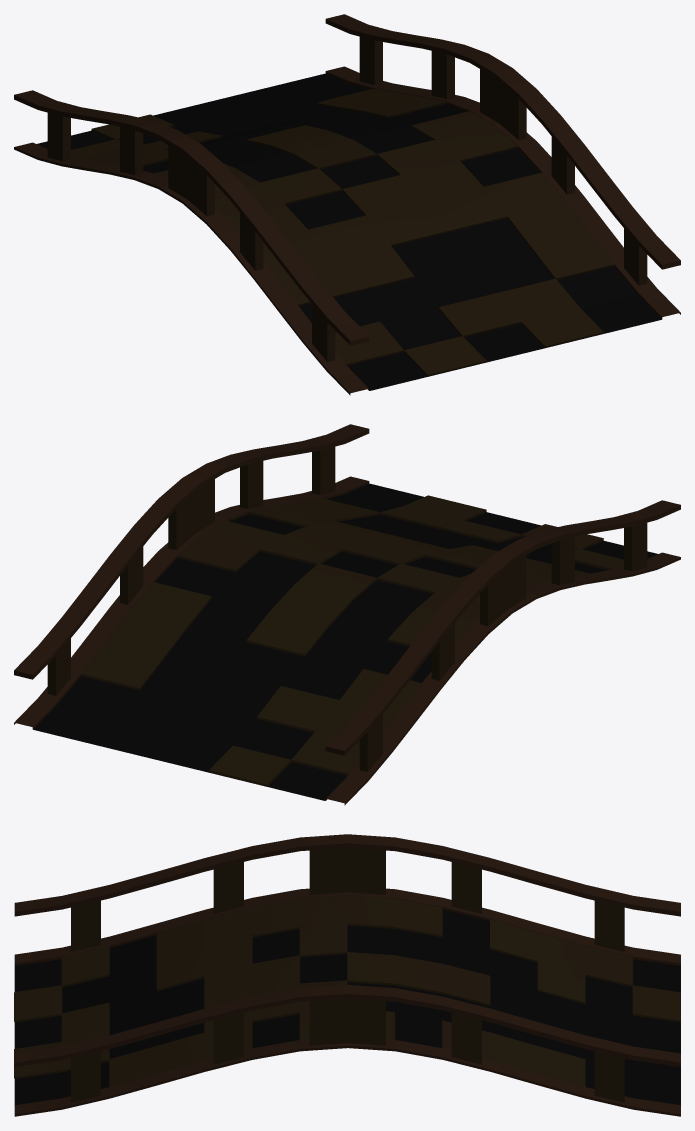
The model's file is bridge.fbx.
3 renders of one model, top to bottom at view 1: azimuth 30°, elevation 25°; view 2: azimuth 150°, elevation 25°; view 3: azimuth 270°, elevation 25°, orthographic.
Parts seen in each view (by area): view 1: Short Way.001; view 2: Short Way.001; view 3: Short Way.001.
Boxes of the visible parts, <box> form: Short Way.001: <box>14,14,680,395</box>; Short Way.001: <box>14,424,680,805</box>; Short Way.001: <box>14,834,680,1116</box>.
Size of the model in its own units: 14.33 by 25.29 by 5.14.
